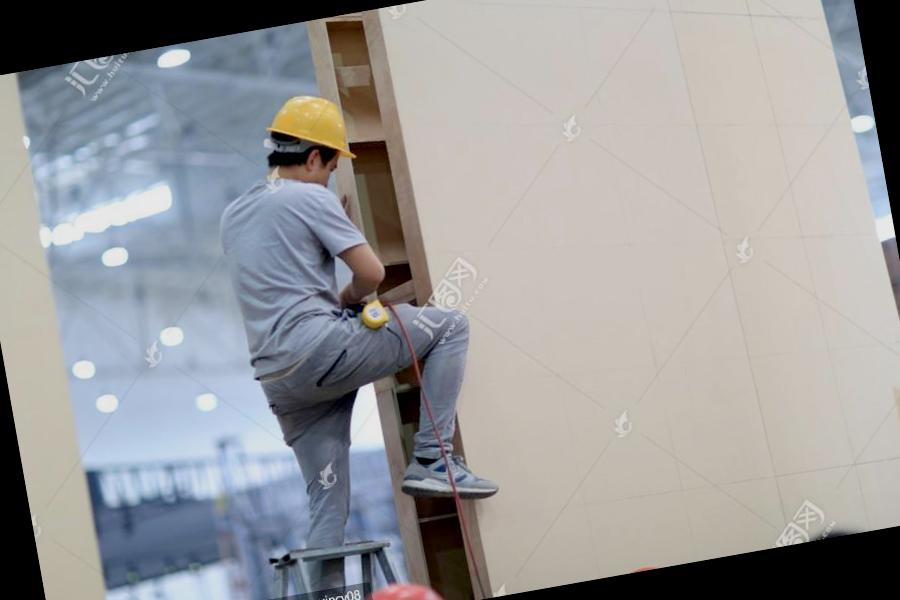helmet: (262, 81, 362, 164)
no_vest: (203, 168, 402, 403)
person: (179, 68, 507, 562)
